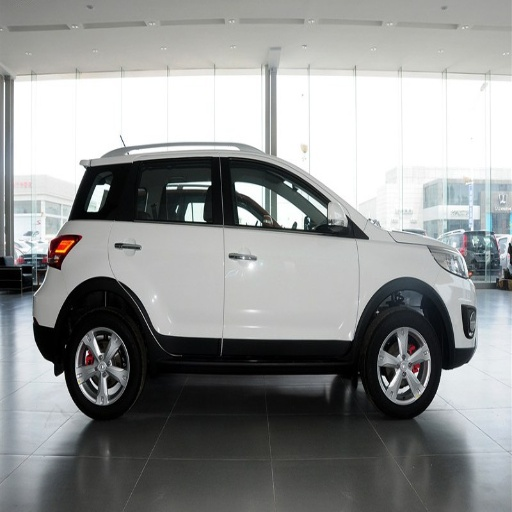back_right_door: (110, 154, 220, 358)
front_right_door: (221, 155, 359, 357)
